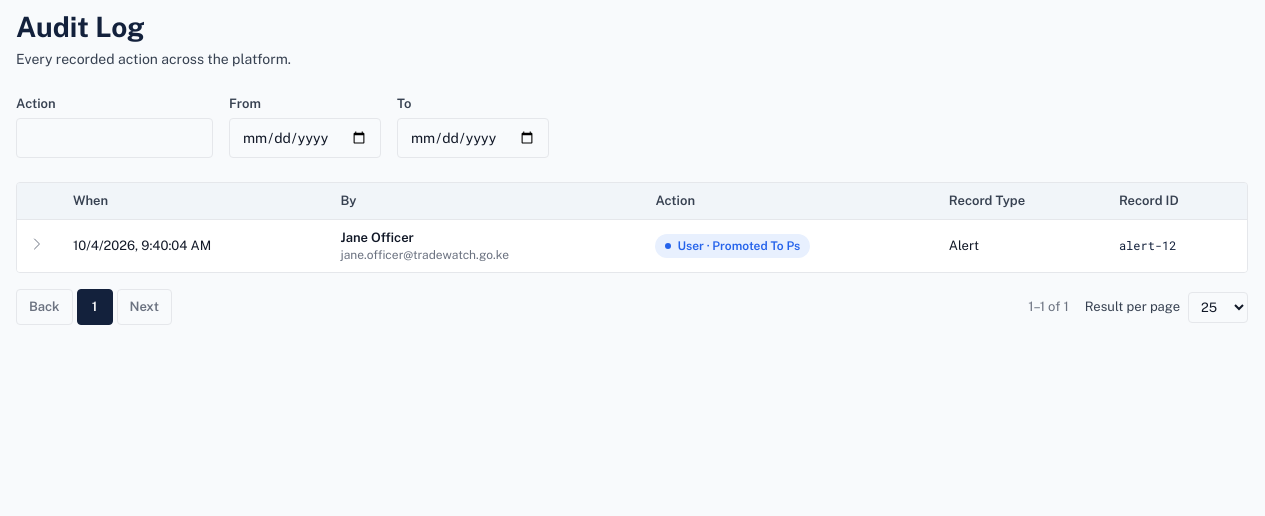
AuditLogPage › renders a flat {field: {from, to}} payload as a field-level diff
Expected: the text "Jane Officer" is shown, top-left (340, 230), bottom-right (414, 245)
Click the button named "Show what changed": (37, 244) top-left (27, 234), bottom-right (47, 254)
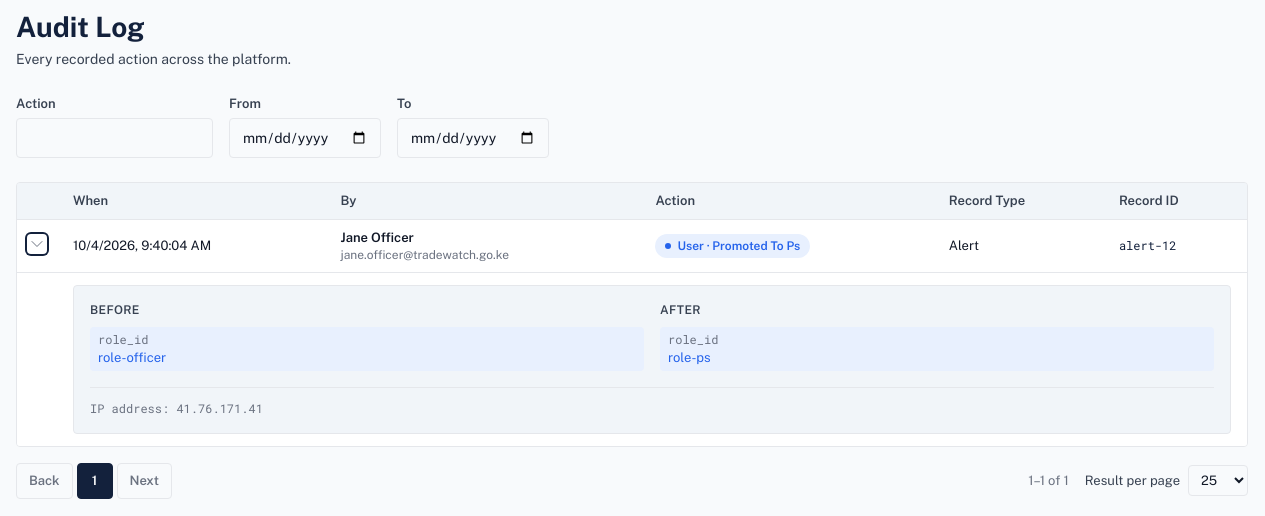
Now the text "role-officer" is shown, box top-left (98, 350), bottom-right (166, 365)
Now the text "role-ps" is shown, box top-left (668, 350), bottom-right (711, 365)
